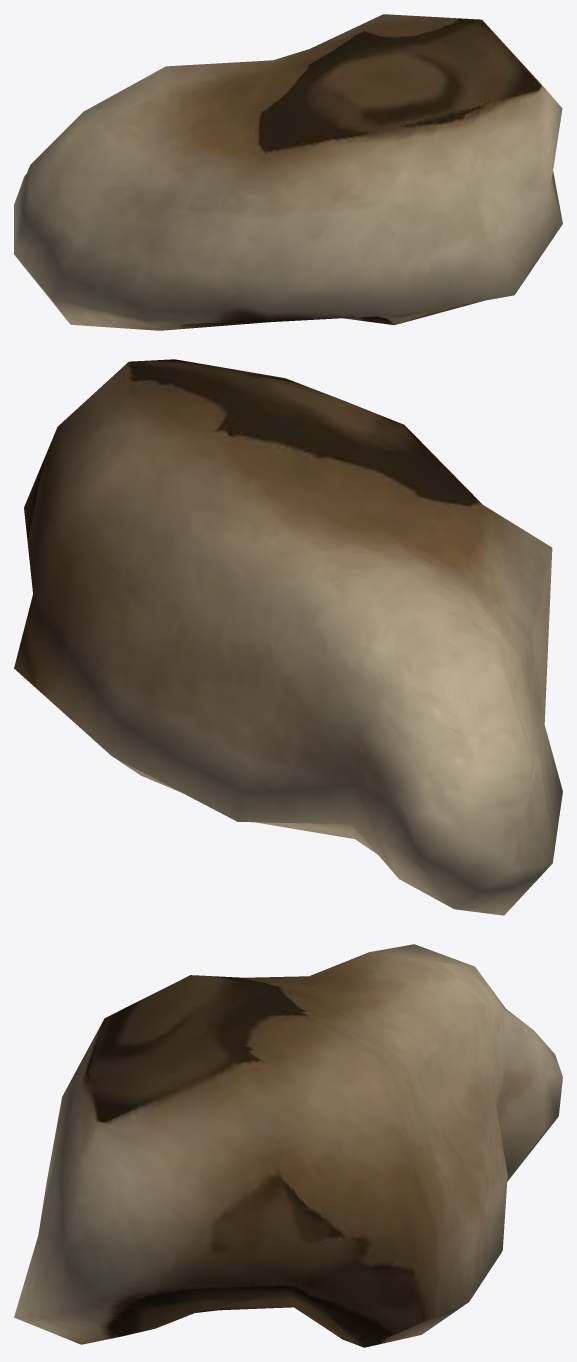
Rendered from Radial.glb.
3 views of the same model, one above another, from view 1: azimuth 30°, elevation 25°; view 2: azimuth 150°, elevation 25°; view 3: azimuth 270°, elevation 25° (orthographic). The views are drawn at different scales.
Visible parts, largest first — view 1: Radial_Left1:Group51213; view 2: Radial_Left1:Group51213; view 3: Radial_Left1:Group51213.
Part boxes in pixels (x1,y1,x2,y2): Radial_Left1:Group51213: (14,14,562,330); Radial_Left1:Group51213: (14,359,562,915); Radial_Left1:Group51213: (14,944,562,1347).
Size of the model in its own units: 19.83 by 12.06 by 16.02.
Materials: 1 (1 with a texture image).
